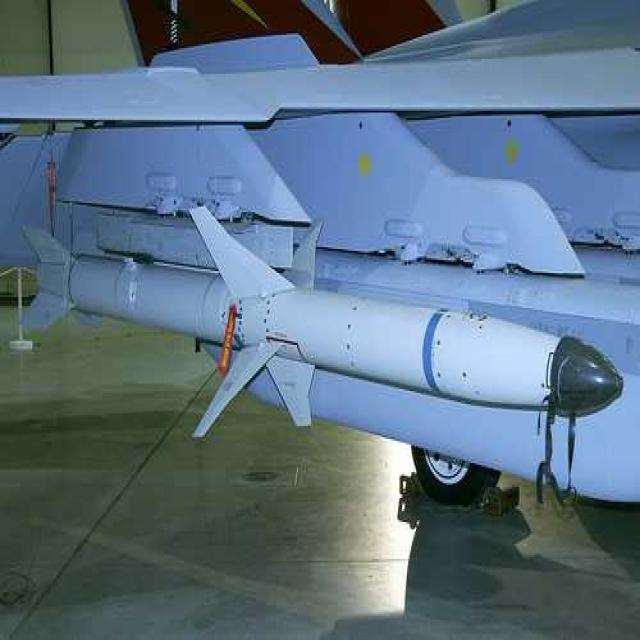missile: (14, 203, 624, 448)
